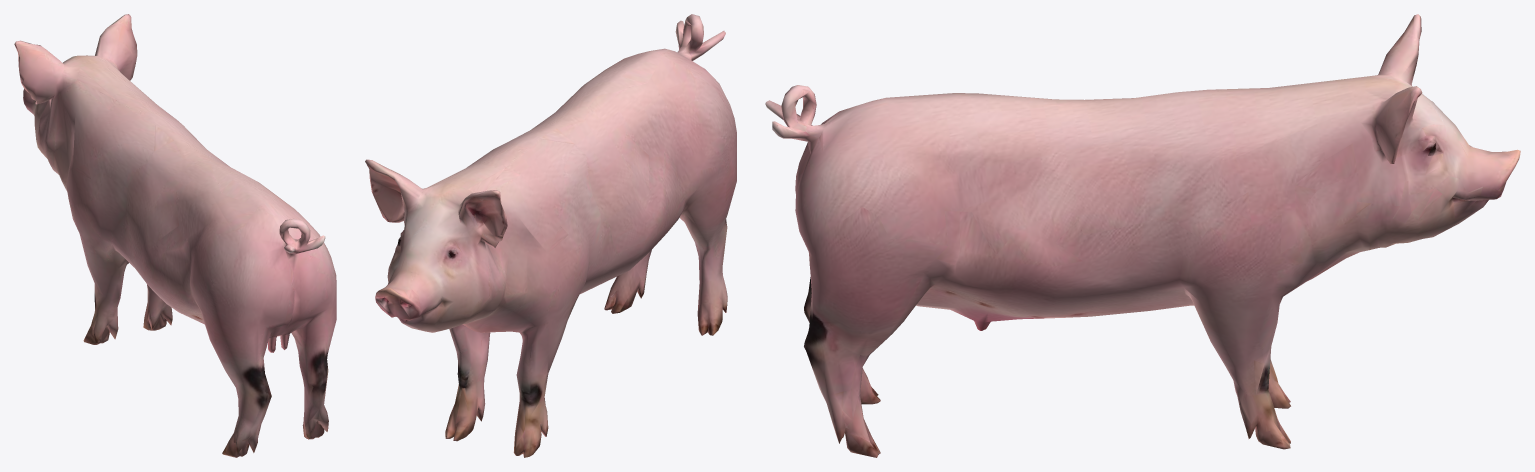
File: maiale_rosa_lod.gltf
3 views of the same model, side by side, from view 1: azimuth 30°, elevation 25°; view 2: azimuth 150°, elevation 25°; view 3: azimuth 270°, elevation 25° (orthographic). The views are drawn at different scales.
Visible parts, largest first — view 1: animal; view 2: animal; view 3: animal.
Part boxes in pixels (x1,y1,x2,y2): animal: [14, 14, 336, 457]; animal: [365, 14, 736, 457]; animal: [765, 14, 1520, 457].
Size of the model in its own units: 0.3232 by 0.7157 by 1.3.
1 material, 1 textured.
